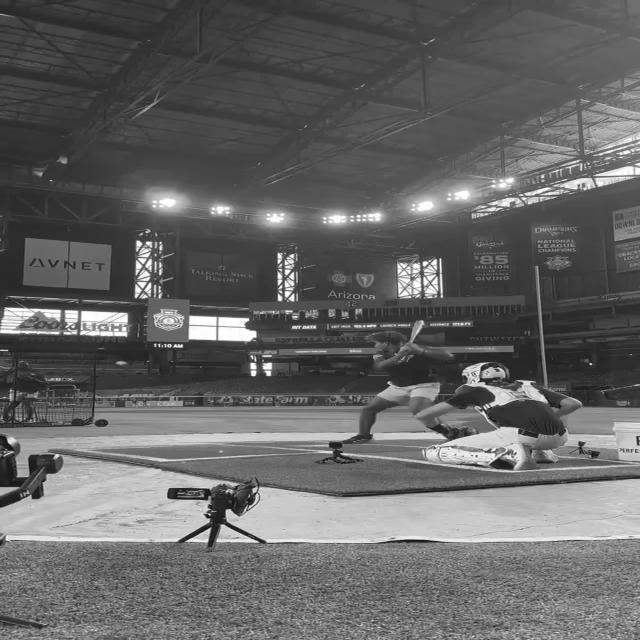baseball: (115, 360, 127, 366)
baseball_glove: (426, 423, 478, 441)
bat: (396, 320, 424, 363)
shoe: (488, 442, 536, 470), (532, 448, 558, 463), (341, 434, 373, 444), (578, 448, 600, 458)
